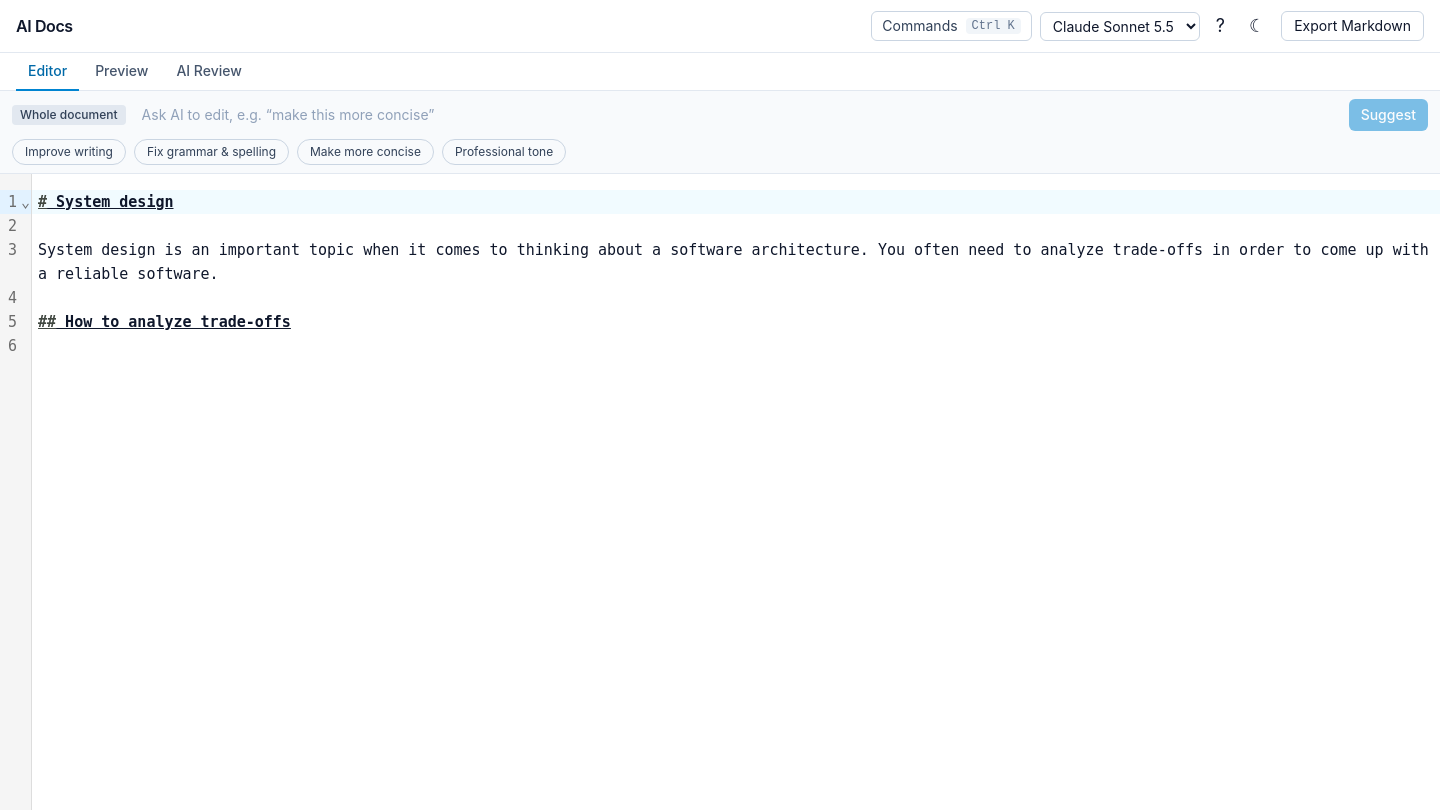
Test: App commands › switches the model from the palette
Type keys "{Control>}k{/Control}"
(page scrolled)
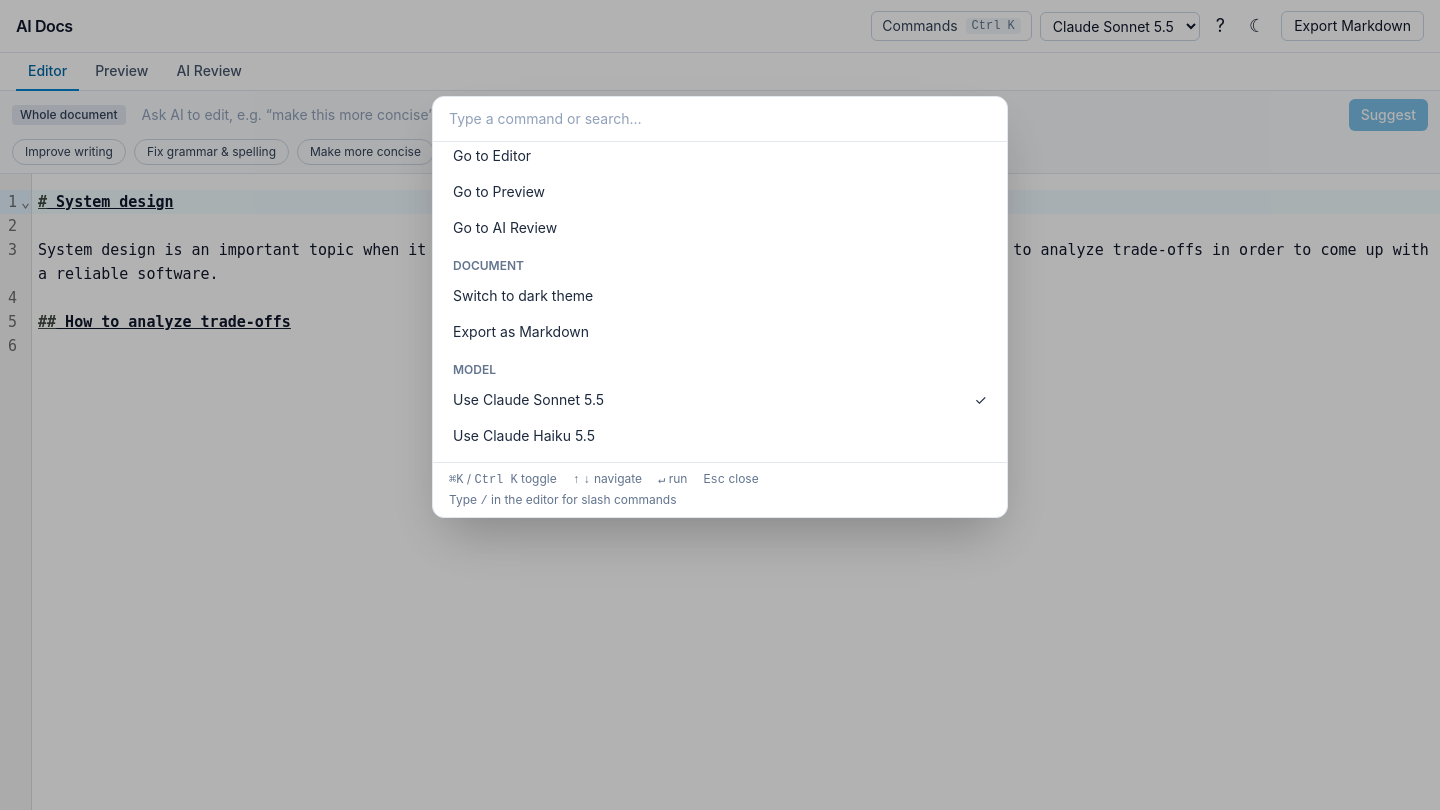
Click the option "Use Claude Haiku 5.5" at (524, 436), box [453,427,595,444]
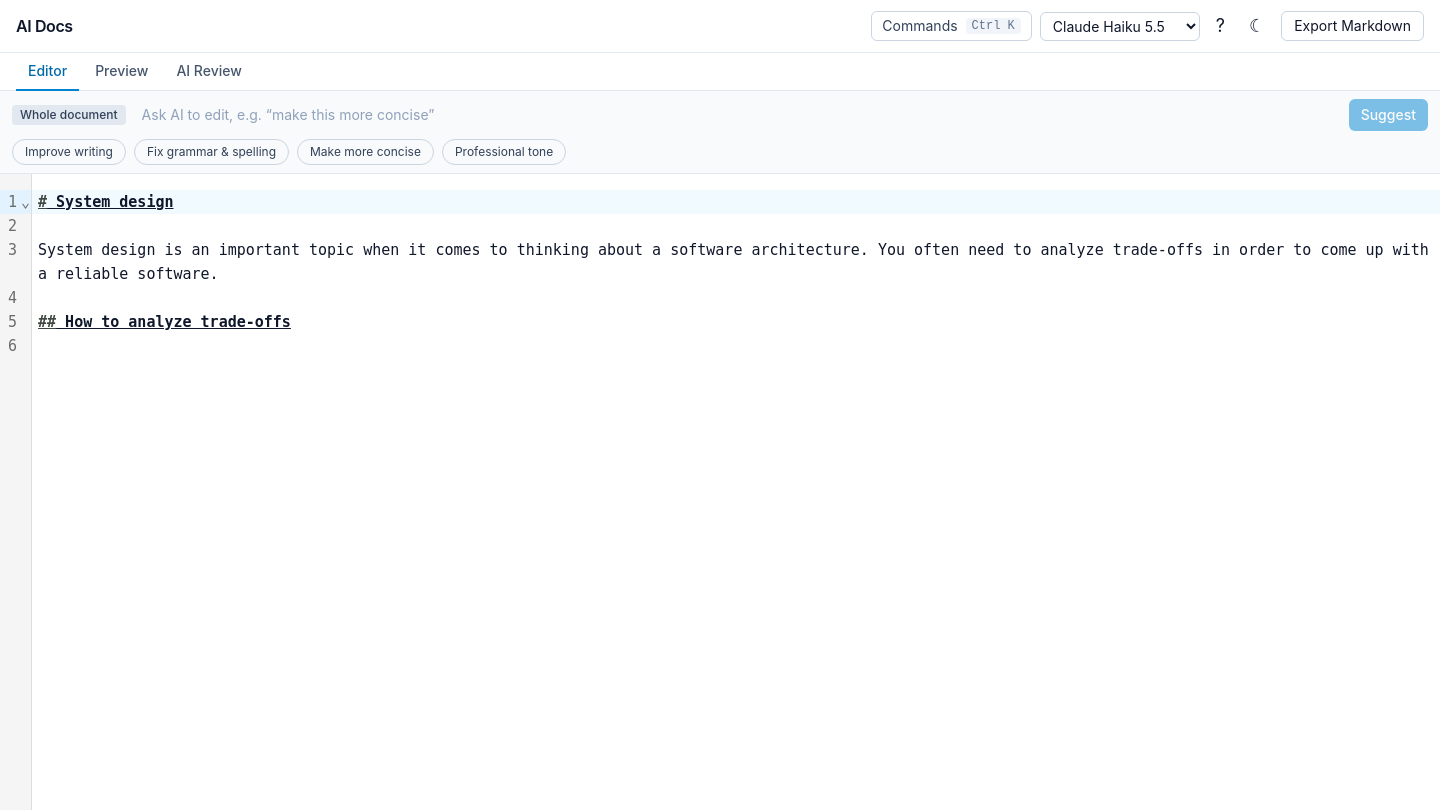
Type keys "{Control>}k{/Control}"
(page scrolled)
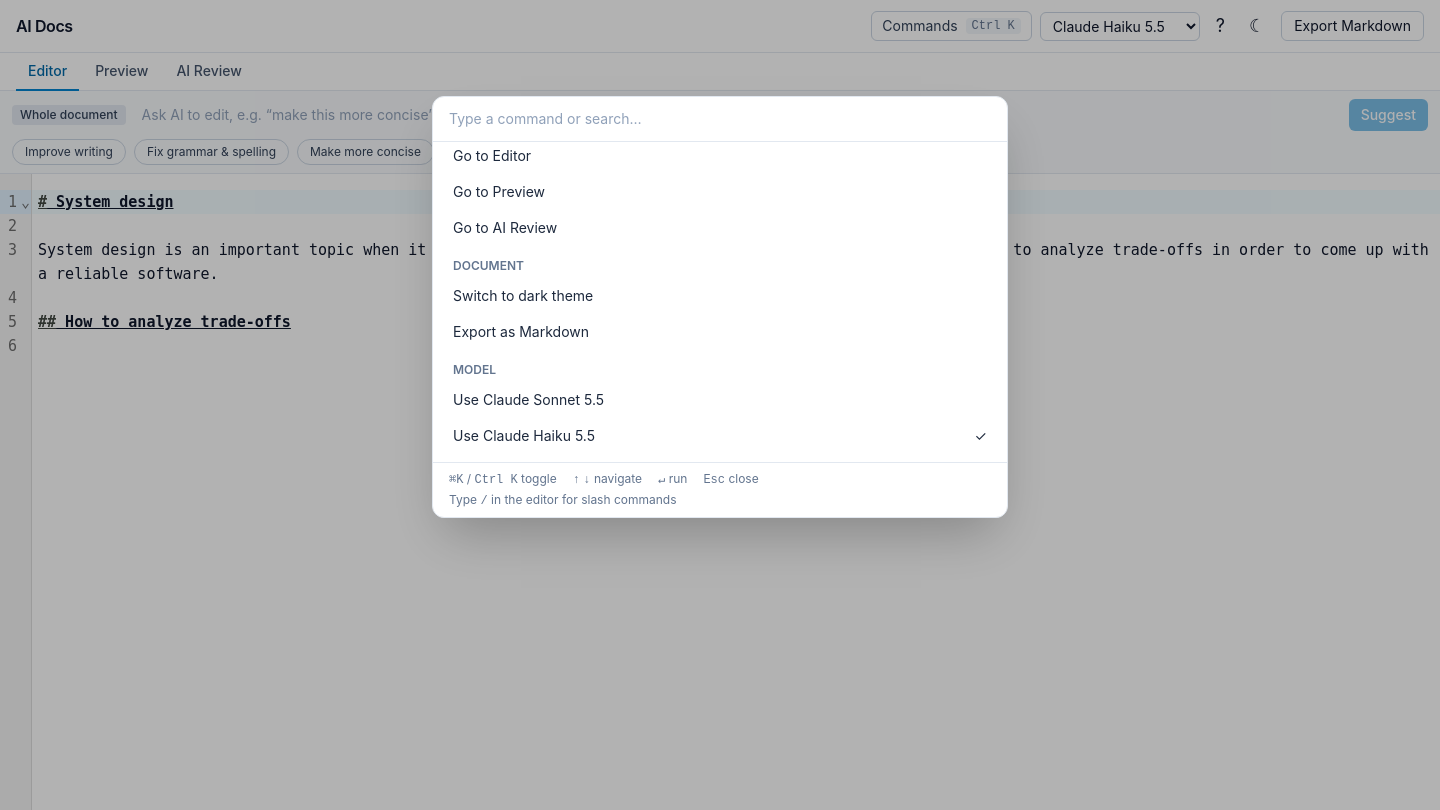
Now the option "Use Claude Haiku 5.5 ✓" is shown, box [453,427,987,444]
